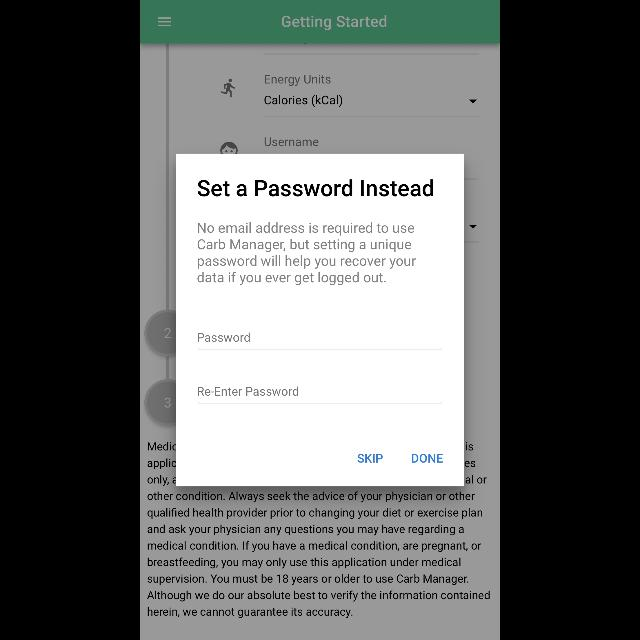icon: (221, 80, 235, 98), (158, 18, 172, 27), (469, 99, 477, 103)
input: (197, 386, 443, 404), (197, 332, 443, 350)
panel: (176, 154, 464, 486)
text: (148, 492, 482, 618), (198, 222, 416, 286), (198, 180, 432, 197), (282, 15, 386, 30), (198, 386, 298, 396), (264, 95, 342, 107), (265, 75, 331, 87), (198, 332, 250, 342), (265, 138, 319, 146), (412, 453, 442, 462), (358, 453, 382, 462)
